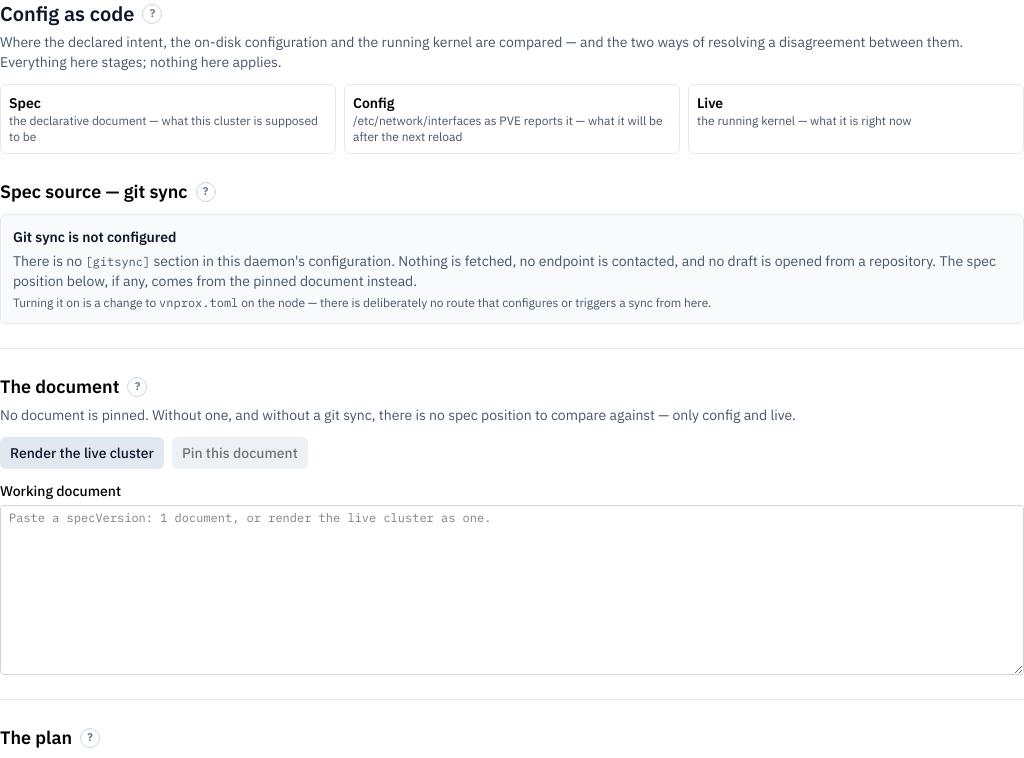
config-as-code cockpit — the plan states two facts › renders ops == 0 and notInSpec == 0 as the two distinct facts they are
The image size is (1024, 758).
Click the button "Render the live cluster".
click(82, 453)  # box [0,437,164,469]
(page scrolled)
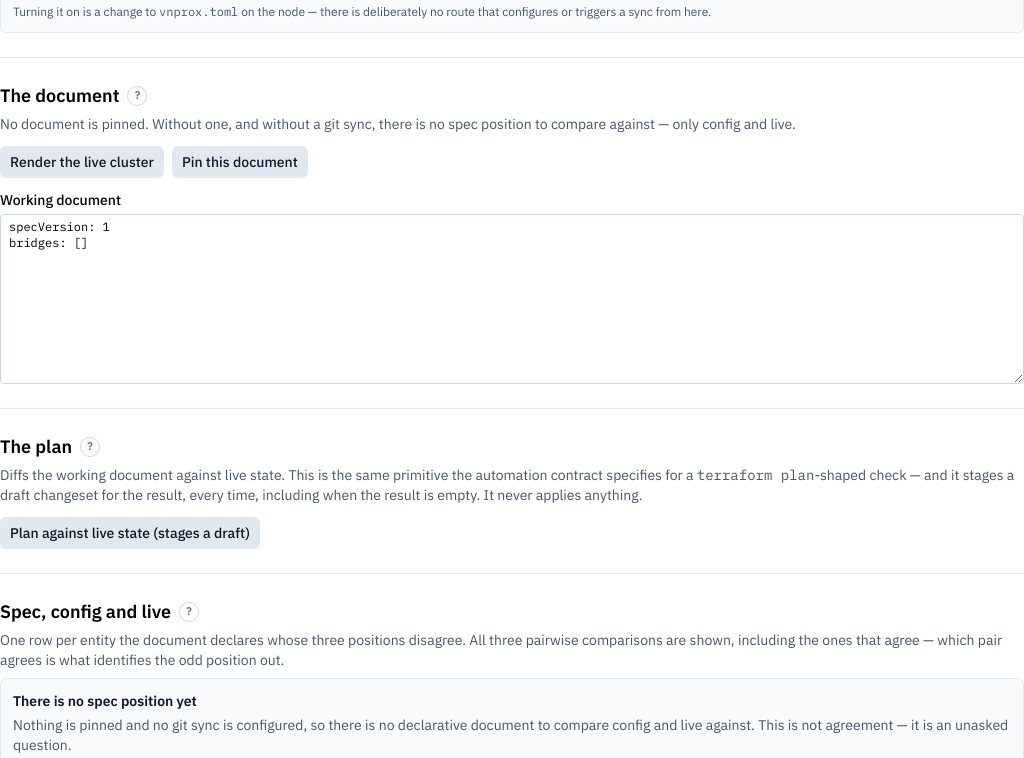
# The label says what the button does — planning stages a draft.
Click the button "Plan against live state (stages a draft)".
click(130, 533)  # box [0,517,260,549]
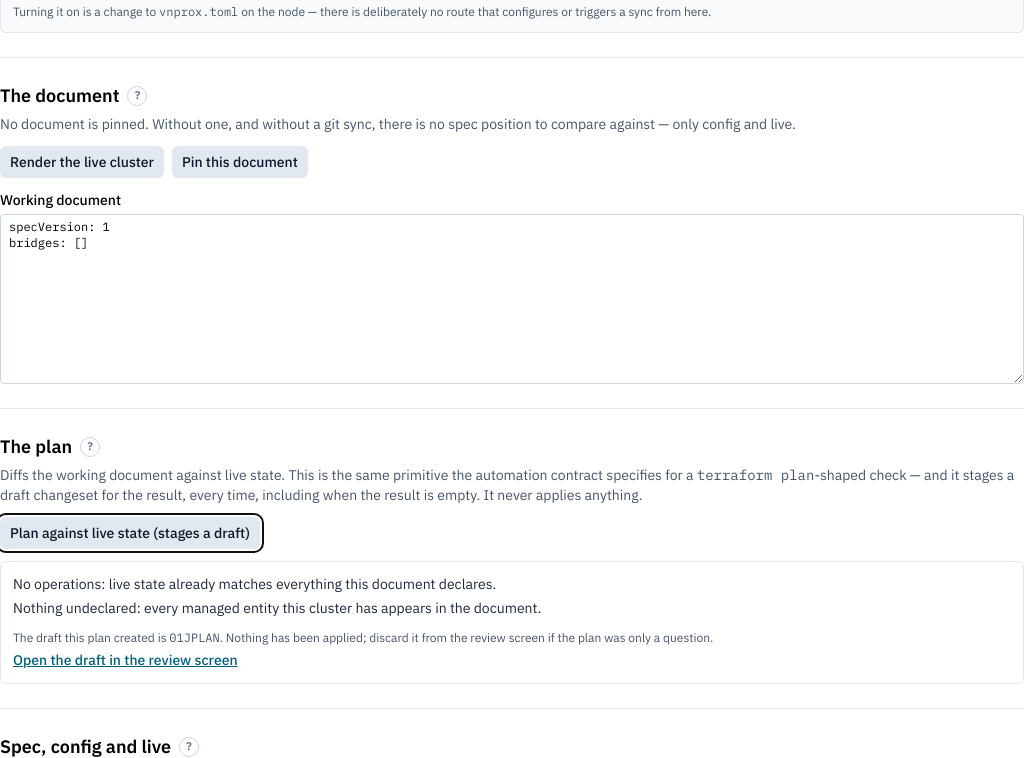
Check: the text "No operations: live state already matches everything this document declares." is shown, box [13,575,496,593]
Check: the text "Nothing undeclared: every managed entity this cluster has appears in the document." is shown, box [13,599,541,617]
